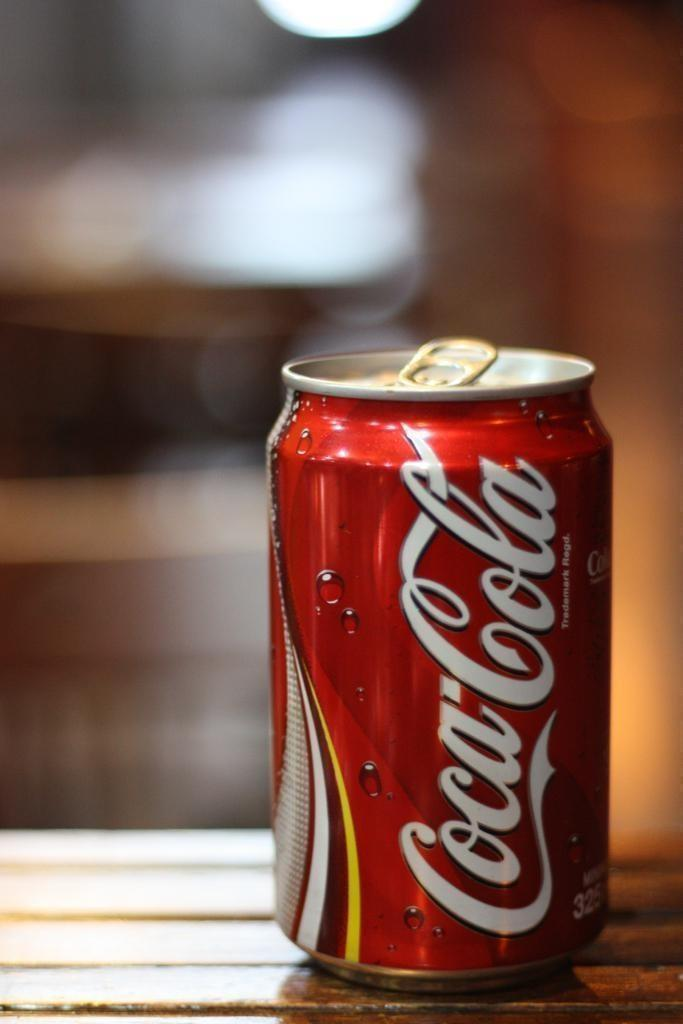tin can: (262, 335, 616, 996)
